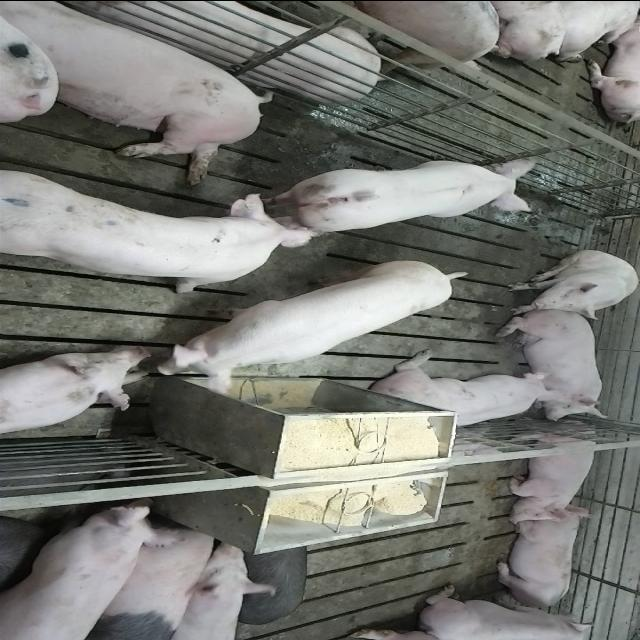Lateral_lying: (5, 4, 277, 186), (64, 1, 380, 102)
Sitting: (502, 250, 637, 318)
Standing: (153, 257, 465, 397), (4, 168, 328, 296), (1, 500, 170, 638), (264, 154, 540, 234), (74, 521, 221, 638), (300, 0, 500, 72), (161, 541, 279, 640)
Sternal_lying: (1, 348, 156, 439), (366, 356, 556, 430), (503, 312, 613, 420), (415, 584, 603, 638), (492, 510, 588, 610), (502, 425, 602, 520)
